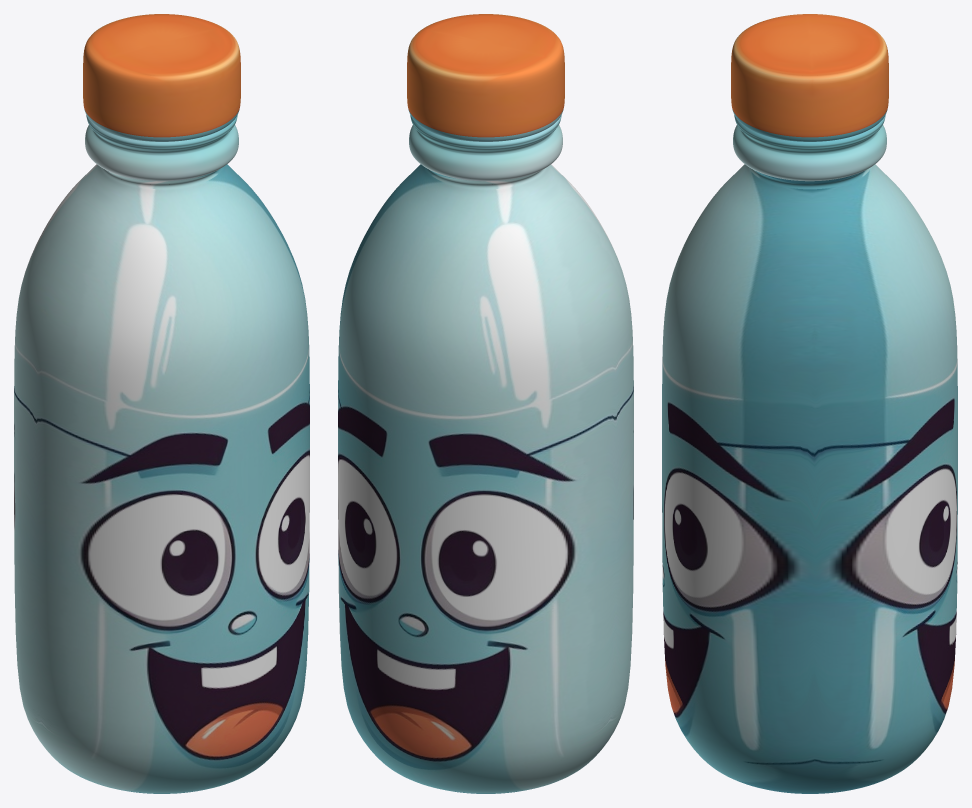
File: 3d_garrafa.gltf
3 views of the same model, side by side, from view 1: azimuth 30°, elevation 25°; view 2: azimuth 150°, elevation 25°; view 3: azimuth 270°, elevation 25° (orthographic).
Visible parts, largest first — view 1: Cylinder; view 2: Cylinder; view 3: Cylinder.
Part boxes in pixels (x1=…): Cylinder: x1=14, y1=14, x2=309, y2=793; Cylinder: x1=338, y1=14, x2=633, y2=793; Cylinder: x1=662, y1=14, x2=957, y2=793.
Size of the model in its own units: 1.56 by 4.18 by 1.56.
Materials: 1 (1 with a texture image).
